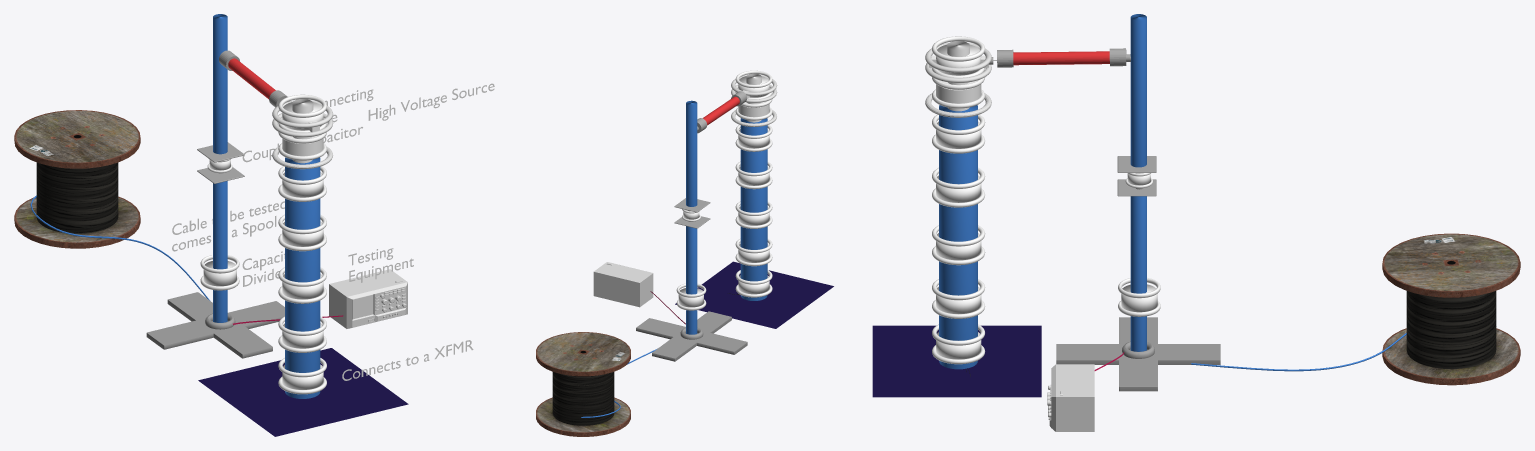
File: partialDischarge.glb
3 renders of one model, left to right at view 1: azimuth 30°, elevation 25°; view 2: azimuth 150°, elevation 25°; view 3: azimuth 270°, elevation 25°, orthographic. The views are drawn at different scales.
Visible parts, largest first — view 1: Wooden_Cable_Reel_1800, Plane, Cable_1800, Cylinder.002, Cube.001, uploads_files_2461956_Oscilloscope02, Cylinder.005, Cylinder.004, Torus.001, Torus.003, Torus.004, Torus.002 (+11 smaller); view 2: Wooden_Cable_Reel_1800, Plane, Cable_1800, Cube.001, Cylinder.002, uploads_files_2461956_Oscilloscope02, Cylinder.005, Cylinder.004, Torus.002, Torus.001, Torus.003, Torus (+5 smaller); view 3: Wooden_Cable_Reel_1800, Plane, Cable_1800, Cylinder.002, Cube.001, uploads_files_2461956_Oscilloscope02, Cylinder.005, Cylinder.004, Cylinder.035, Torus, Torus.009, Torus.001 (+5 smaller).
Boxes of the visible parts, x1,y1,x2,y2 form: Wooden_Cable_Reel_1800: (14, 110, 140, 248); Plane: (198, 348, 408, 436); Cable_1800: (36, 162, 118, 233); Cylinder.002: (285, 157, 320, 398); Cube.001: (146, 292, 284, 358); uploads_files_2461956_Oscilloscope02: (329, 269, 407, 328); Cylinder.005: (213, 14, 227, 154); Cylinder.004: (213, 181, 227, 322); Torus.001: (278, 316, 326, 352); Torus.003: (278, 214, 326, 251); Torus.004: (278, 166, 326, 201); Torus.002: (278, 267, 326, 303); Wooden_Cable_Reel_1800: (536, 332, 630, 436); Plane: (675, 261, 833, 328); Cable_1800: (552, 372, 614, 425); Cube.001: (636, 311, 747, 361); Cylinder.002: (740, 118, 767, 300); uploads_files_2461956_Oscilloscope02: (593, 262, 653, 307); Cylinder.005: (686, 100, 697, 206); Cylinder.004: (686, 226, 697, 334); Torus.002: (735, 201, 772, 228); Torus.001: (735, 238, 772, 266); Torus.003: (735, 161, 772, 189); Torus: (735, 270, 772, 297); Wooden_Cable_Reel_1800: (1382, 233, 1520, 385); Plane: (872, 325, 1041, 397); Cable_1800: (1406, 291, 1496, 368); Cylinder.002: (939, 105, 977, 369); Cube.001: (1056, 317, 1220, 391); uploads_files_2461956_Oscilloscope02: (1047, 364, 1094, 431); Cylinder.005: (1130, 14, 1146, 167); Cylinder.004: (1130, 196, 1146, 351); Cylinder.035: (997, 48, 1126, 67); Torus: (932, 324, 985, 364); Torus.009: (932, 36, 984, 77); Torus.001: (932, 279, 985, 318).
Size of the model in its own units: 14.85 by 19.56 by 33.84.
Materials: 36 (2 with a texture image).
